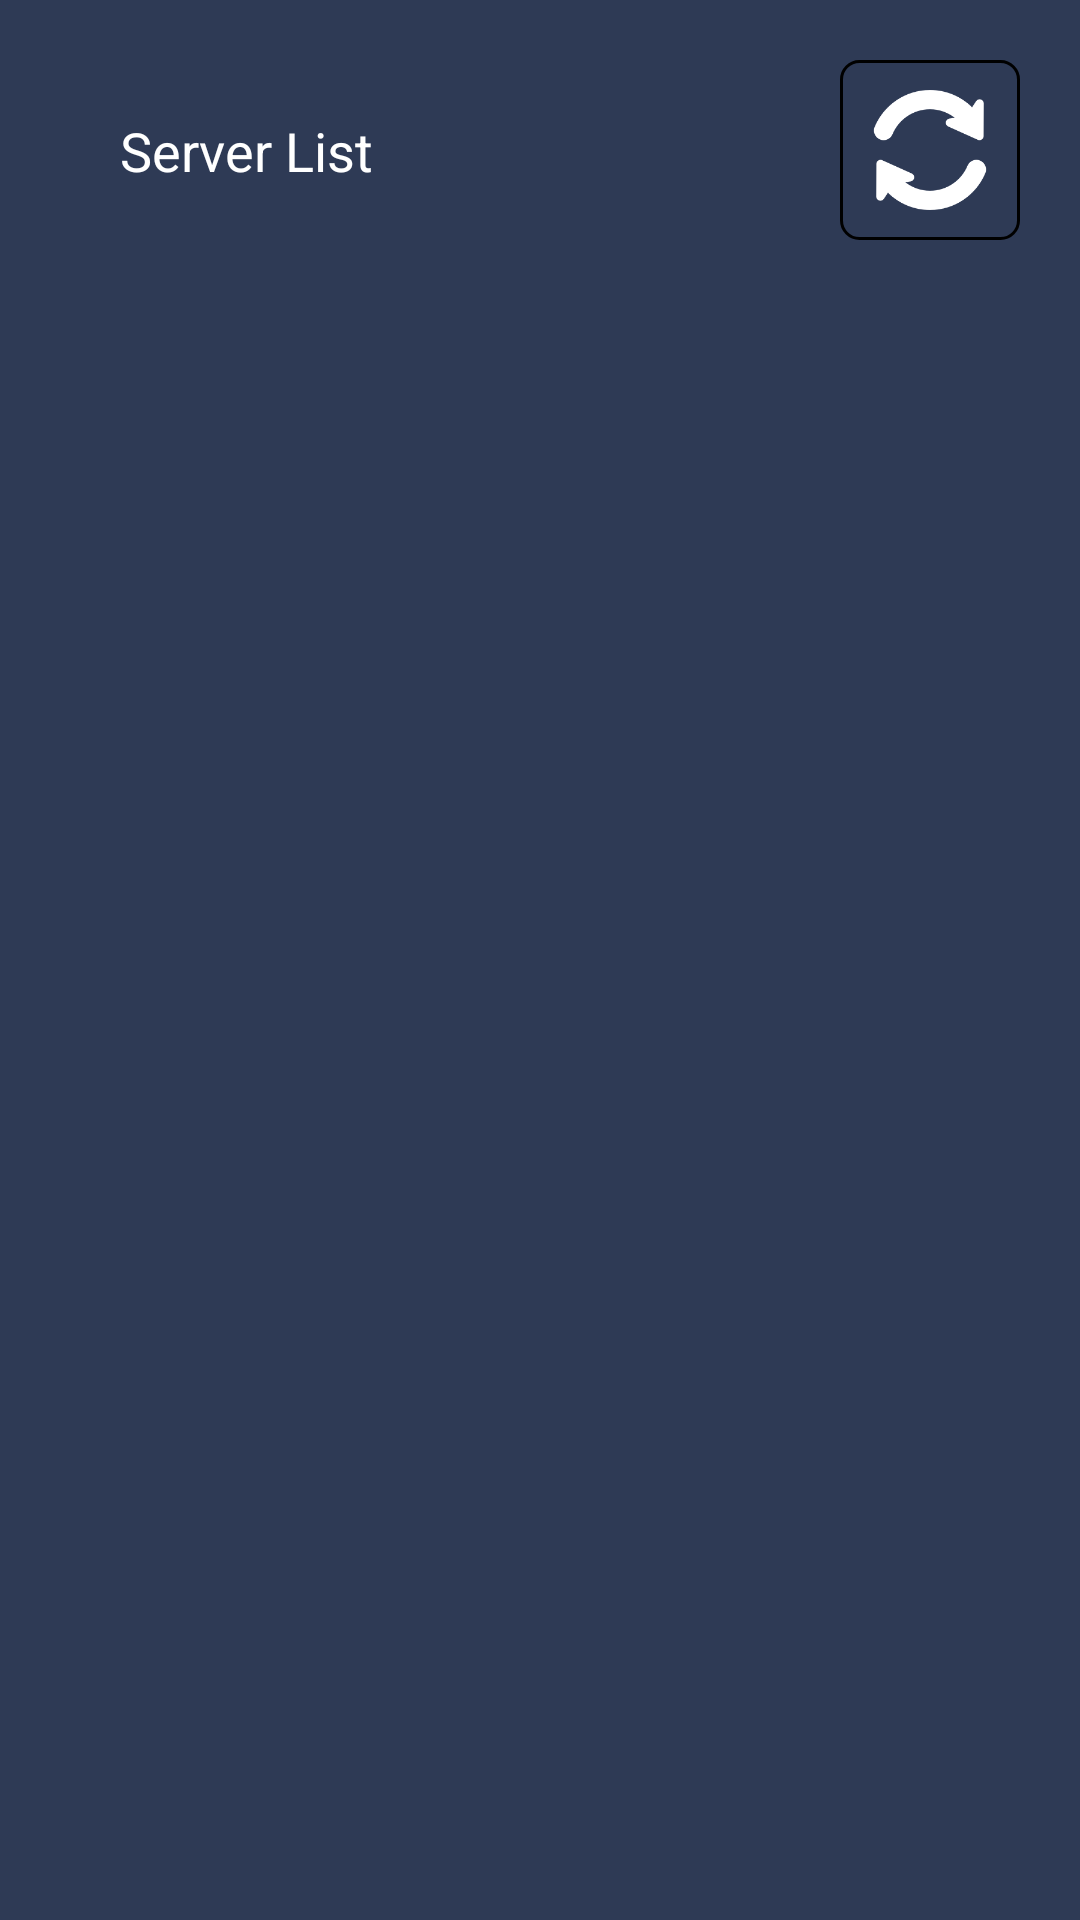

Screen size 1080 × 1920. Icon name, then its center in pixels as [x,y]:
refresh servers: [930,150]
